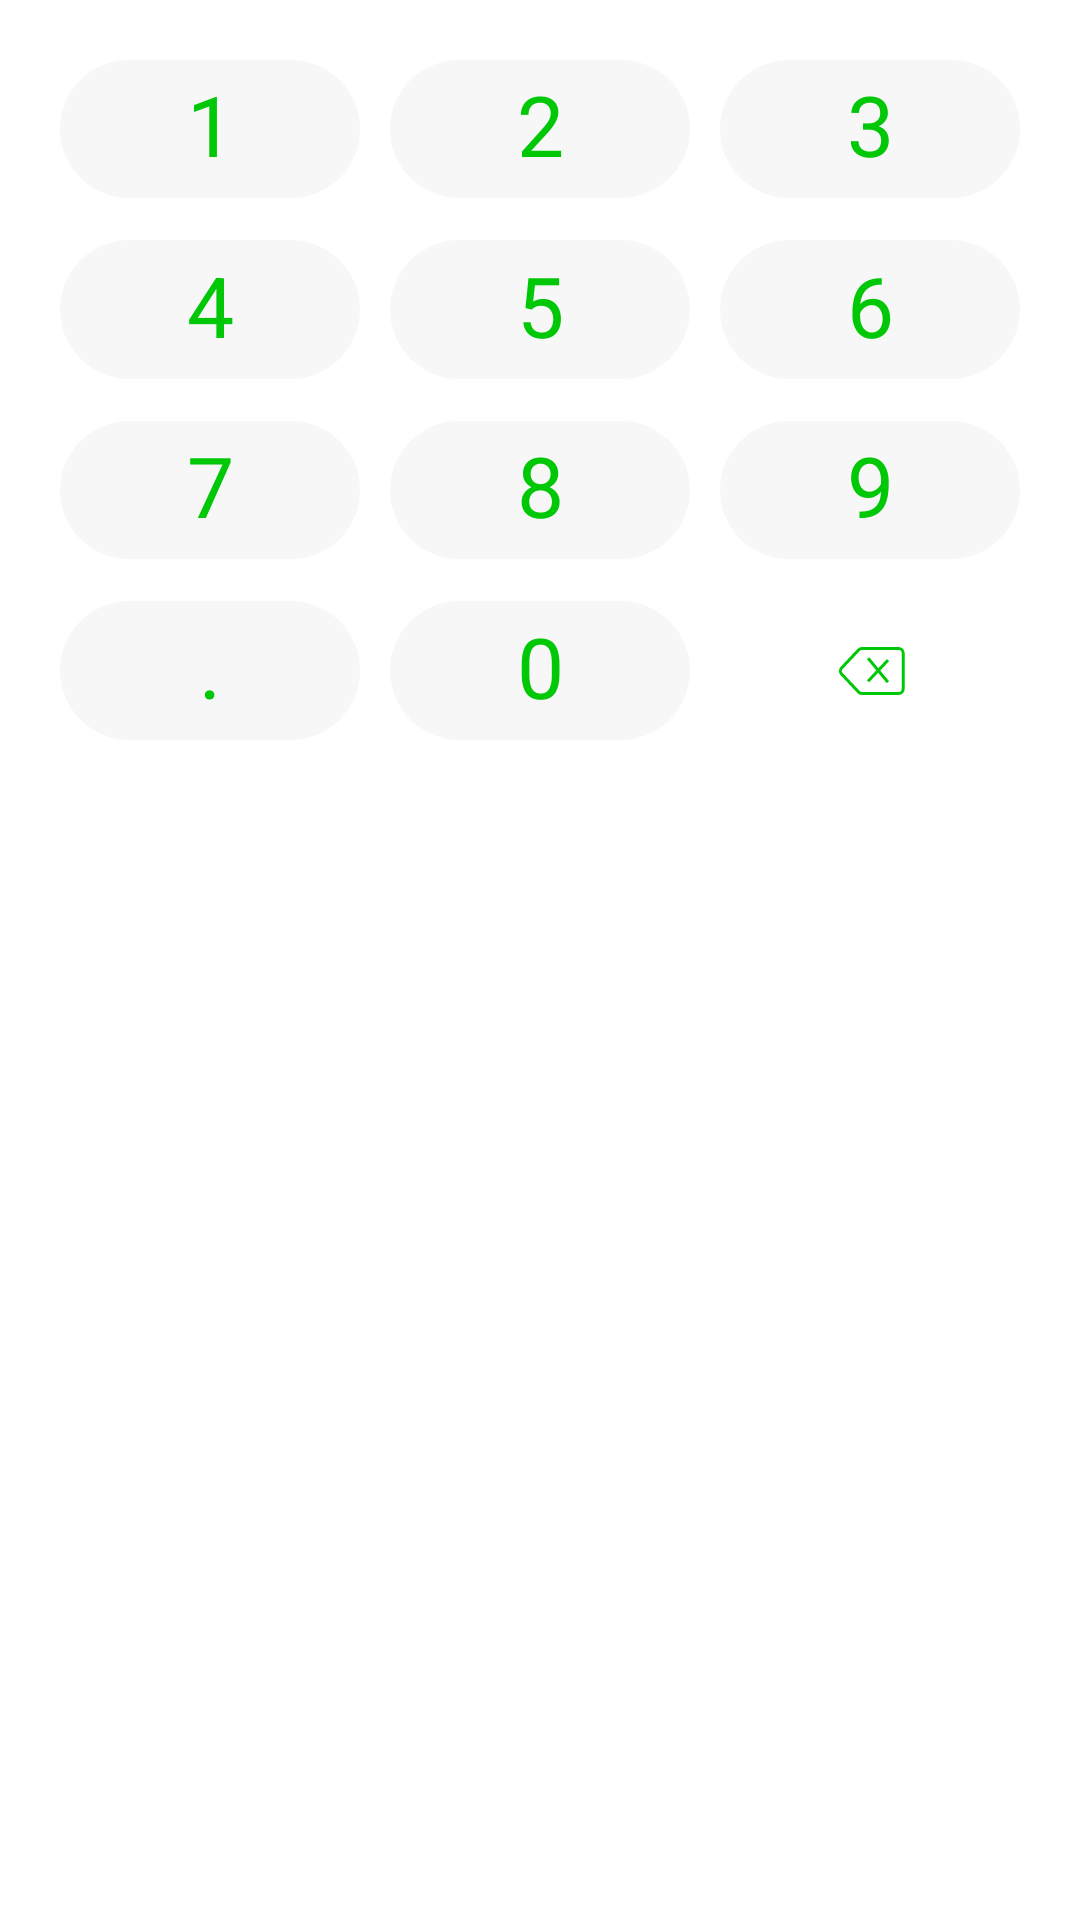

Named icons in this screenshot (1080px x 1920px) and their centers, point (x, y):
delete backspace: point (872, 671)
